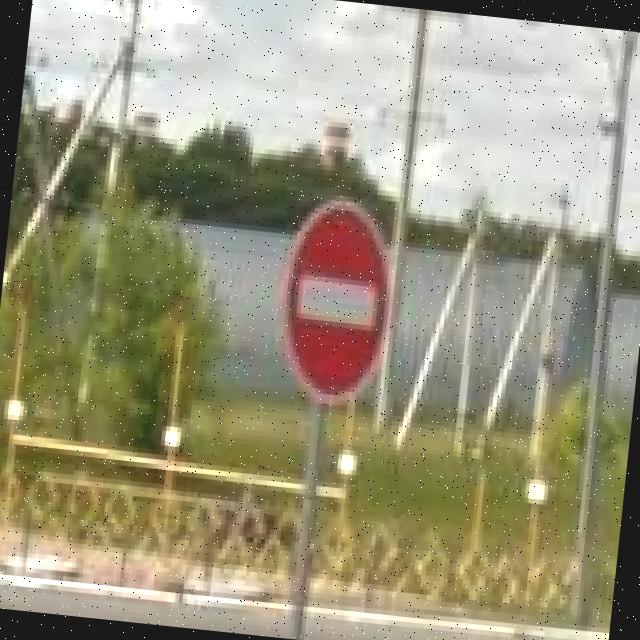Zakaz wjazdu: (268, 190, 403, 409)
